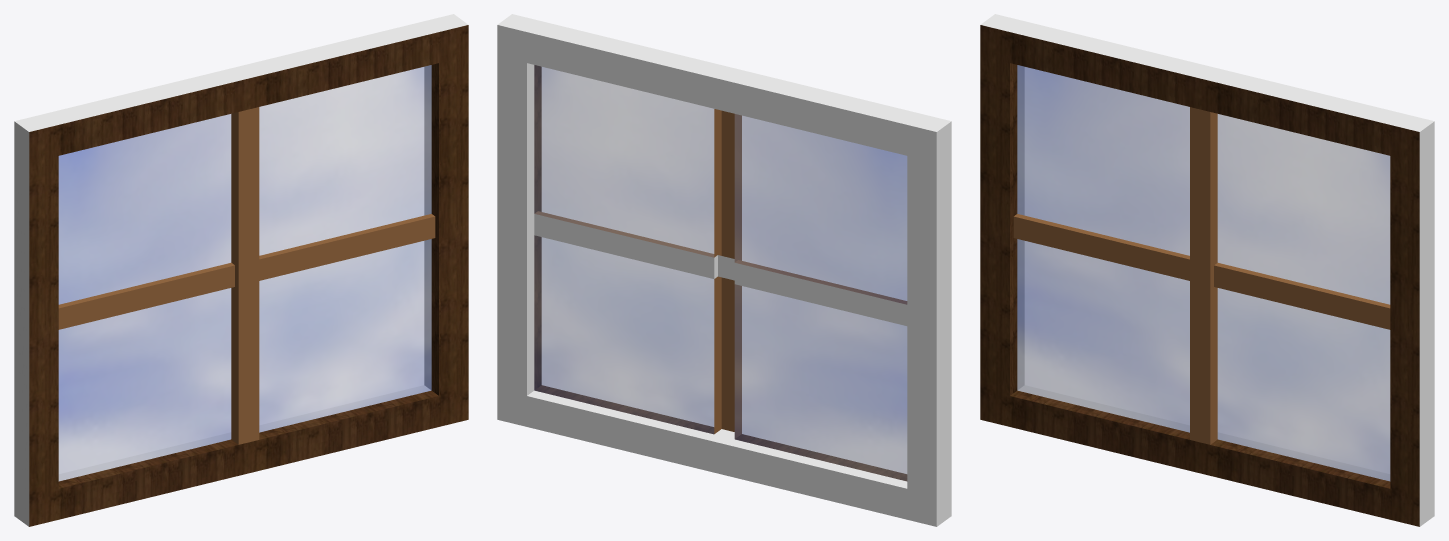
File: window.obj
3 renders of one model, left to right at view 1: azimuth 30°, elevation 25°; view 2: azimuth 150°, elevation 25°; view 3: azimuth 330°, elevation 25°, orthographic.
Visible parts, largest first — view 1: Mesh1 Model; view 2: Mesh1 Model; view 3: Mesh1 Model.
Boxes of the visible parts, x1,y1,x2,y2 form: Mesh1 Model: (14,14,468,526); Mesh1 Model: (497,14,951,526); Mesh1 Model: (980,14,1434,526).
Size of the model in its own units: 51.25 by 44 by 3.
